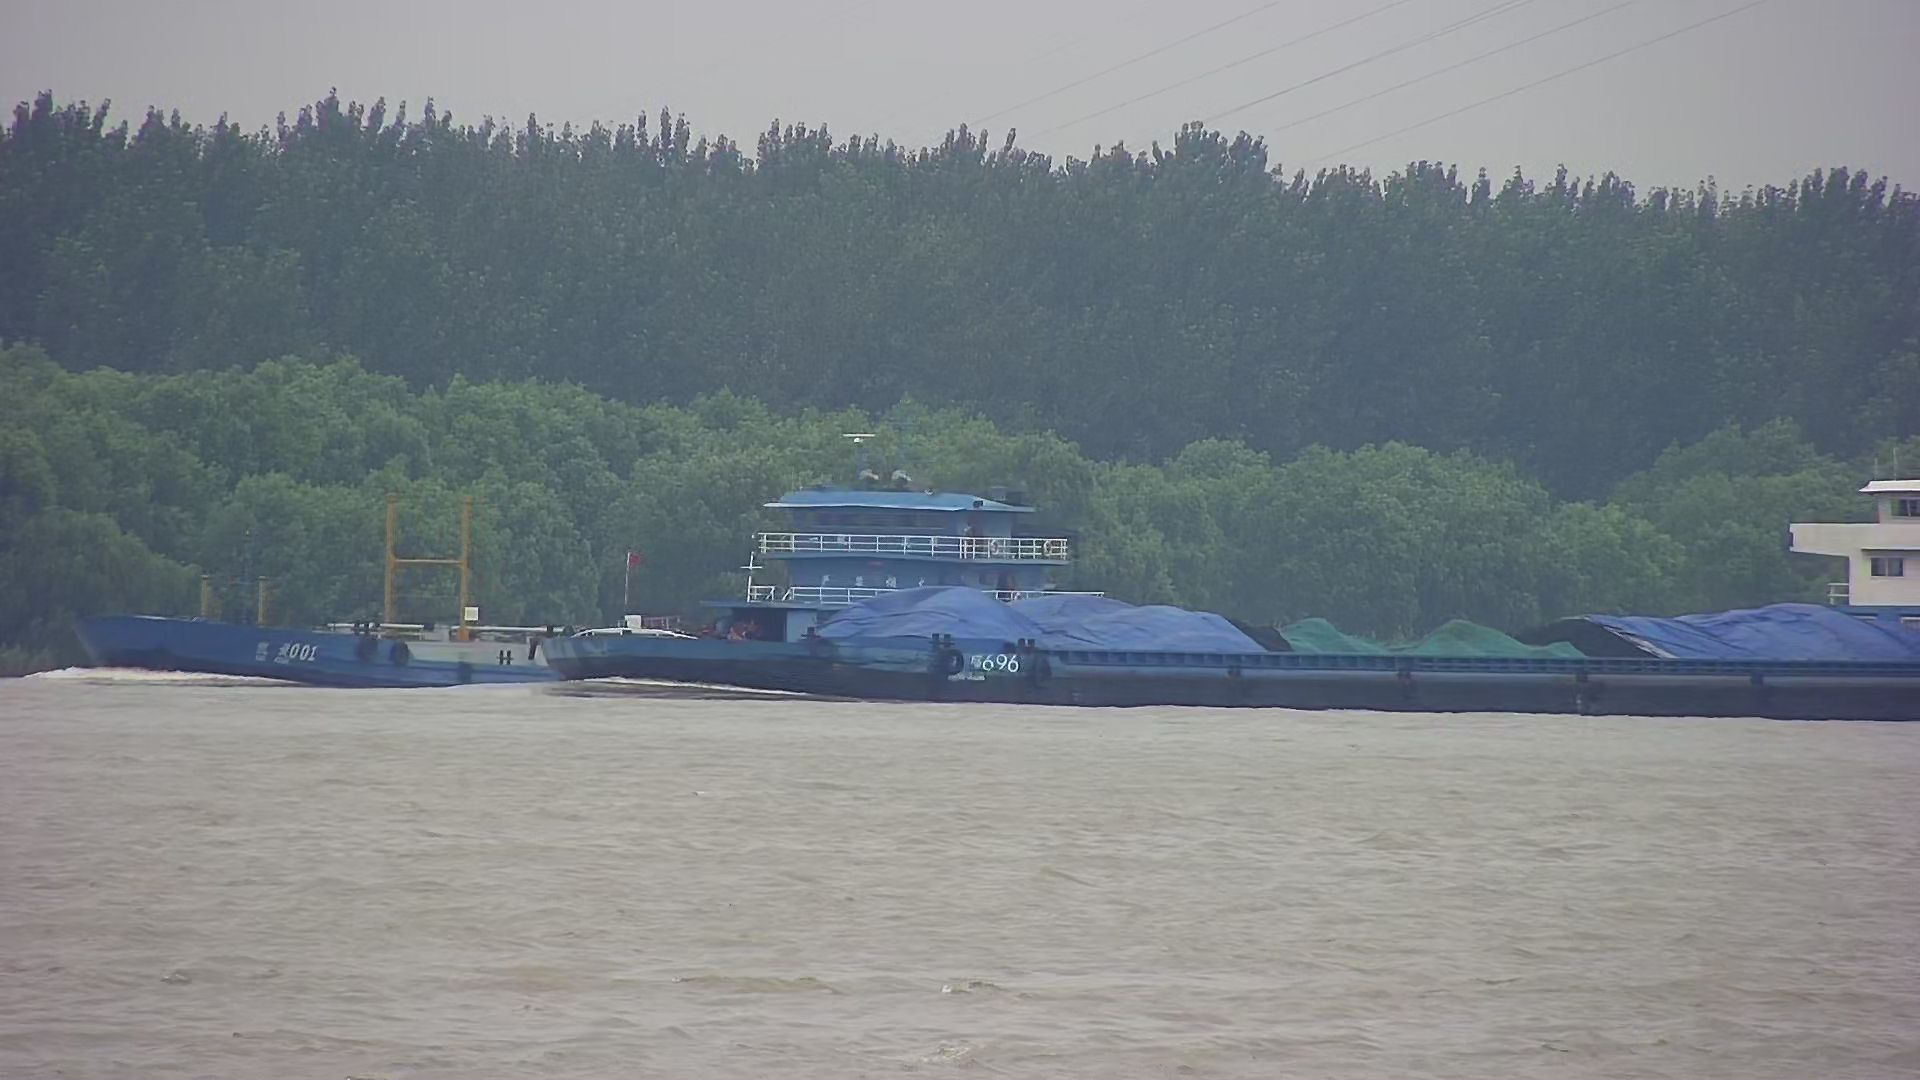ship: (520, 440, 1919, 728), (59, 460, 1131, 709)
